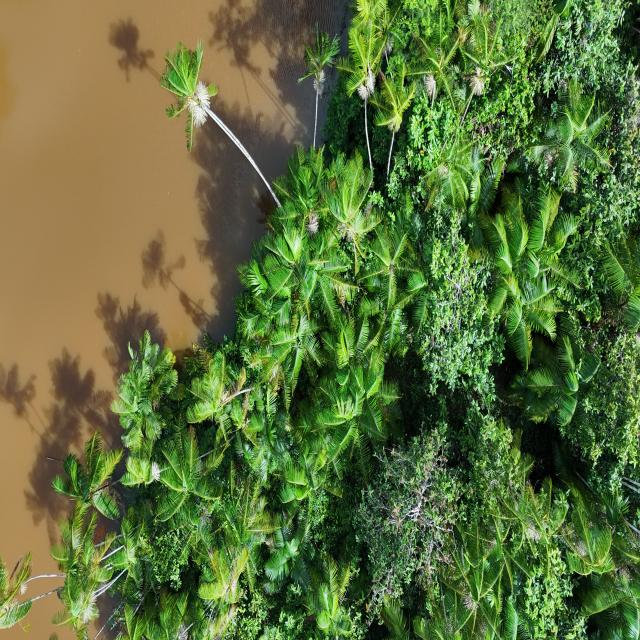vegetation: (1, 1, 638, 638)
